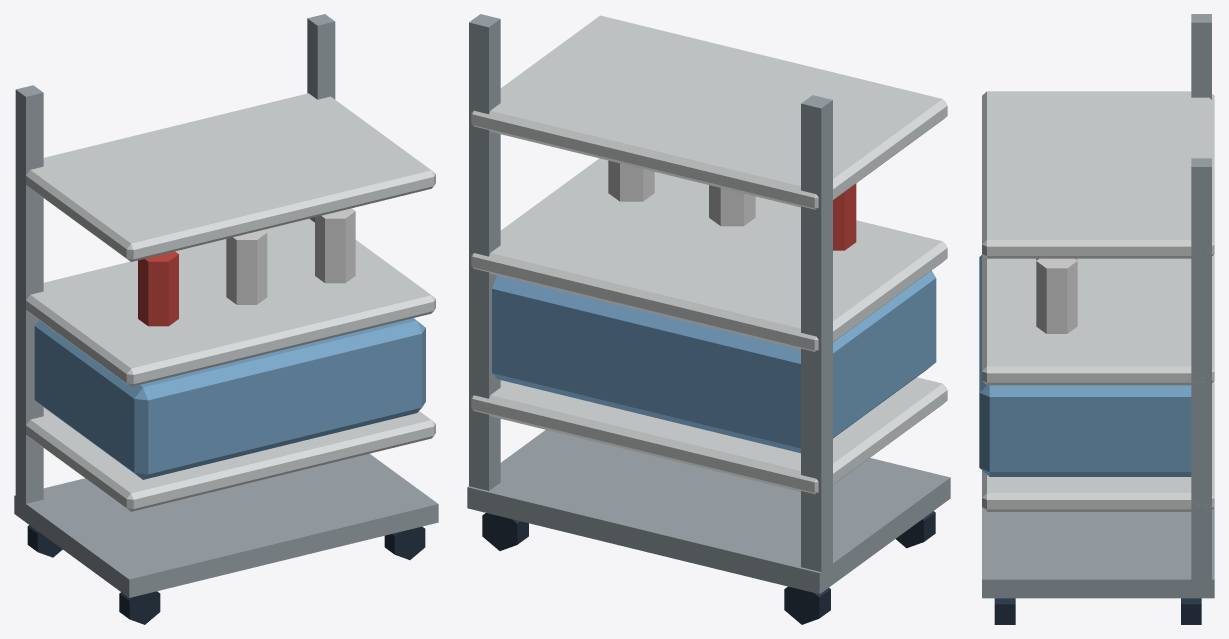
File: decor_4.fbx
The picture shows the model from 3 angles, left to right: view 1: azimuth 30°, elevation 25°; view 2: azimuth 150°, elevation 25°; view 3: azimuth 270°, elevation 25°; orthographic projection. The views are drawn at different scales.
Parts seen in each view (by area): view 1: decor_4; view 2: decor_4; view 3: decor_4.
Boxes of the visible parts, bbox=[...] form: decor_4: bbox=[14, 14, 438, 624]; decor_4: bbox=[467, 14, 950, 624]; decor_4: bbox=[979, 14, 1214, 624].
Bounding box in the file's own units: 0.7 × 1 × 0.455.
